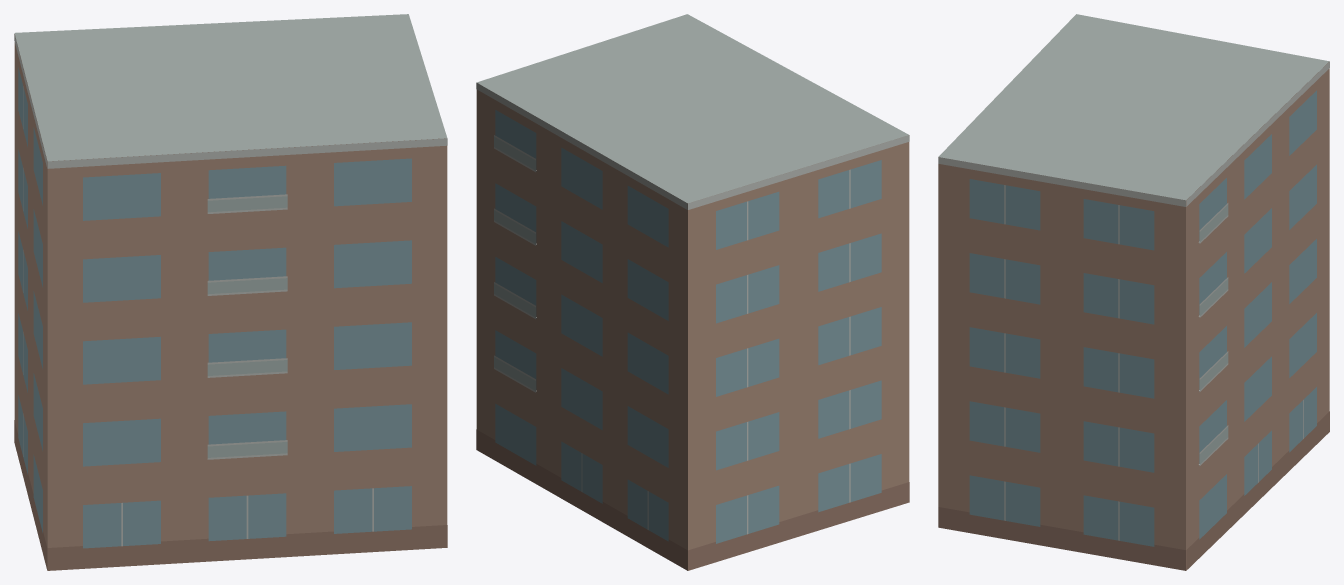
The model's file is survey-upis-32901860.glb.
The picture shows the model from 3 angles, left to right: view 1: azimuth 30°, elevation 25°; view 2: azimuth 150°, elevation 25°; view 3: azimuth 270°, elevation 25°; orthographic projection. The views are drawn at different scales.
Parts seen in each view (by area): view 1: survey-upis-32901860.tmp; view 2: survey-upis-32901860.tmp; view 3: survey-upis-32901860.tmp.
Part boxes in pixels (box(x1,y1,x2,y2)): survey-upis-32901860.tmp: box(14, 14, 447, 570); survey-upis-32901860.tmp: box(476, 14, 909, 570); survey-upis-32901860.tmp: box(938, 14, 1329, 570).
Size of the model in its own units: 14.41 by 13.35 by 12.79.
